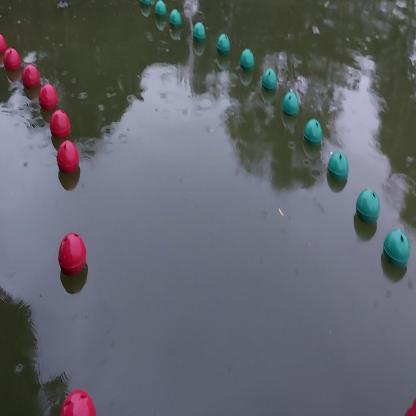green_buoy: (382, 230, 408, 272), (355, 187, 381, 227), (327, 149, 349, 193), (303, 119, 324, 155), (281, 88, 301, 124), (260, 66, 279, 100), (239, 47, 256, 78), (216, 32, 232, 62), (193, 20, 207, 49), (169, 10, 183, 37), (154, 0, 166, 28)
red_buoy: (59, 232, 89, 280), (60, 386, 97, 416), (60, 138, 80, 181), (51, 105, 70, 148), (40, 81, 60, 113), (22, 63, 40, 92), (3, 48, 21, 74), (0, 33, 6, 67)
